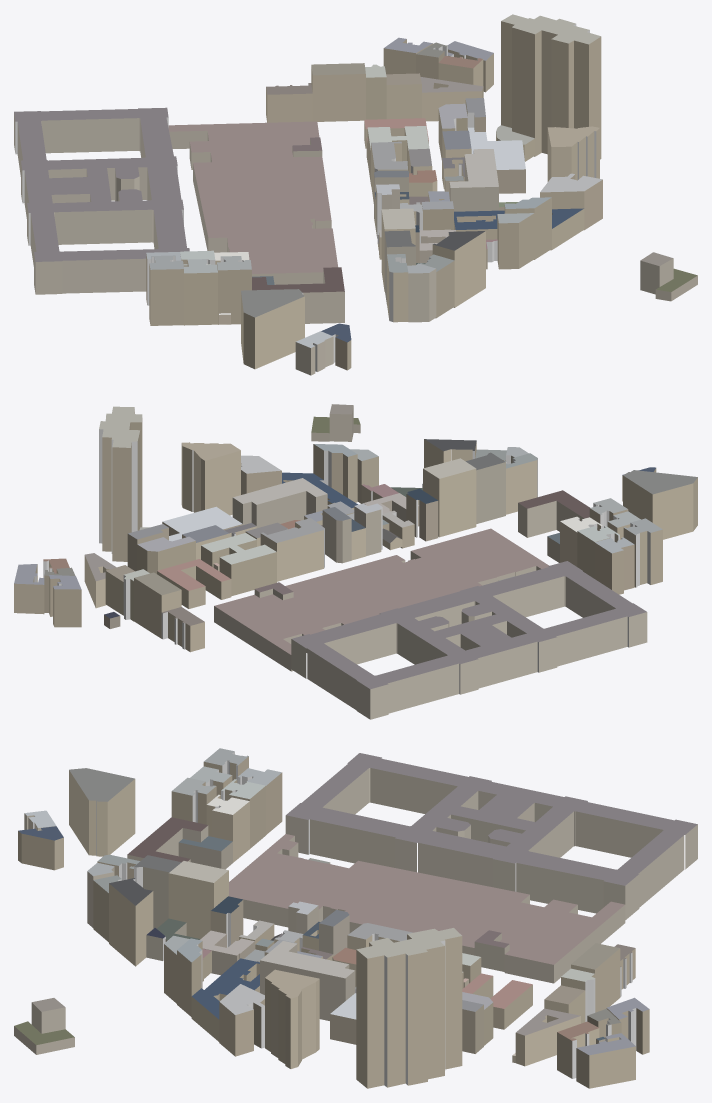
3 renders of one model, top to bottom at view 1: azimuth 30°, elevation 25°; view 2: azimuth 150°, elevation 25°; view 3: azimuth 270°, elevation 25°, orthographic. The views are drawn at different scales.
Parts seen in each view (by area): view 1: tuile; view 2: tuile; view 3: tuile.
Part boxes in pixels (x1,y1,x2,y2): tuile: [14, 14, 697, 375]; tuile: [14, 404, 697, 719]; tuile: [14, 748, 697, 1088].
Size of the model in its own units: 293 by 61 by 287.
